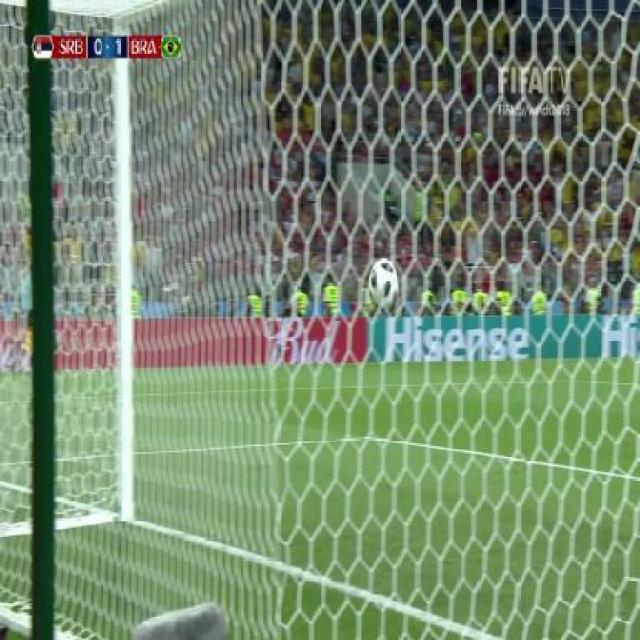ball: (364, 252, 403, 315)
